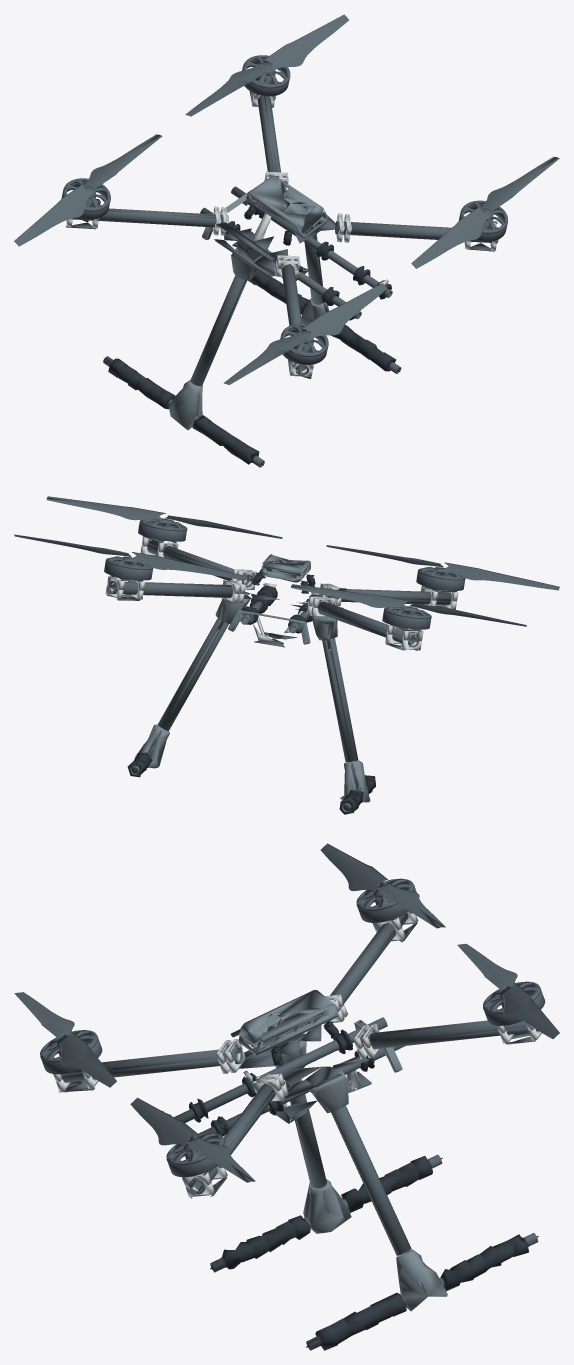
File: x500-twin.glb
3 views of the same model, one above another, from view 1: azimuth 30°, elevation 25°; view 2: azimuth 150°, elevation 25°; view 3: azimuth 270°, elevation 25° (orthographic). The views are drawn at different scales.
Parts seen in each view (by area): view 1: base_link_visual_CarbonFiber-mesh, base_link_visual_LandingFoam-mesh, base_link_visual_FMUK66-mesh, 5010_motor_base_0_Body1_001-mesh, base_link_visual_Metal-mesh; view 2: base_link_visual_CarbonFiber-mesh, base_link_visual_FMUK66-mesh, 5010_motor_base_0_Body1_001-mesh, base_link_visual_Metal-mesh, base_link_visual_LandingFoam-mesh; view 3: base_link_visual_CarbonFiber-mesh, base_link_visual_LandingFoam-mesh, base_link_visual_FMUK66-mesh, 5010_motor_base_0_Body1_001-mesh, base_link_visual_Metal-mesh.
Boxes of the visible parts, x1=… form: base_link_visual_CarbonFiber-mesh: x1=14, y1=14, x2=559, y2=467; base_link_visual_LandingFoam-mesh: x1=104, y1=205, x2=400, y2=465; base_link_visual_FMUK66-mesh: x1=169, y1=175, x2=329, y2=430; 5010_motor_base_0_Body1_001-mesh: x1=61, y1=55, x2=508, y2=364; base_link_visual_Metal-mesh: x1=66, y1=93, x2=497, y2=376; base_link_visual_CarbonFiber-mesh: x1=14, y1=496, x2=559, y2=812; base_link_visual_FMUK66-mesh: x1=134, y1=554, x2=370, y2=802; 5010_motor_base_0_Body1_001-mesh: x1=104, y1=518, x2=465, y2=629; base_link_visual_Metal-mesh: x1=105, y1=536, x2=458, y2=649; base_link_visual_LandingFoam-mesh: x1=127, y1=567, x2=375, y2=814; base_link_visual_CarbonFiber-mesh: x1=14, y1=843, x2=559, y2=1350; base_link_visual_LandingFoam-mesh: x1=167, y1=1021, x2=538, y2=1350; base_link_visual_FMUK66-mesh: x1=238, y1=990, x2=447, y2=1311; 5010_motor_base_0_Body1_001-mesh: x1=40, y1=878, x2=545, y2=1177; base_link_visual_Metal-mesh: x1=53, y1=911, x2=541, y2=1197.
Size of the model in its own units: 4.7 by 2.61 by 3.44.
